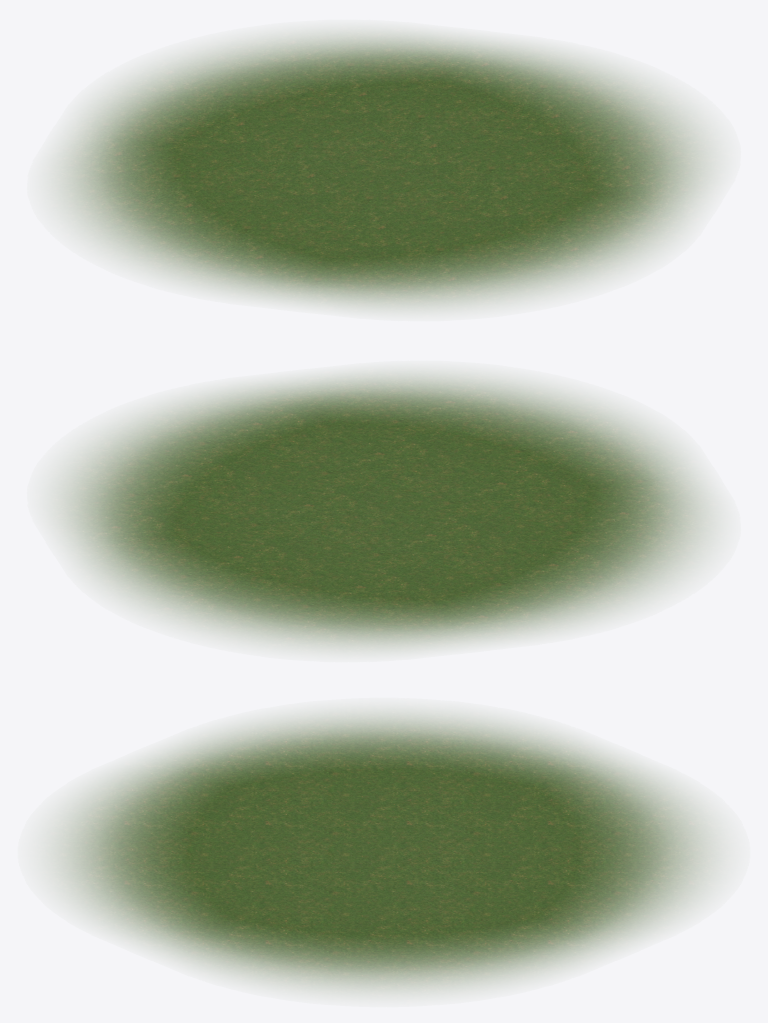
File: ground.glb
The picture shows the model from 3 angles, top to bottom: view 1: azimuth 30°, elevation 25°; view 2: azimuth 150°, elevation 25°; view 3: azimuth 270°, elevation 25°; orthographic projection.
Parts seen in each view (by area): view 1: polySurface5677; view 2: polySurface5677; view 3: polySurface5677.
Part boxes in pixels (x1,y1,x2,y2): polySurface5677: (56,32,711,308); polySurface5677: (56,373,711,649); polySurface5677: (52,712,715,992).
Size of the model in its own units: 80.97 by 3.17e-05 by 80.98.
Materials: 1 (1 with a texture image).
